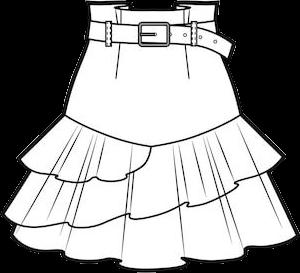Hemline: (2, 154, 285, 227), (10, 232, 297, 270), (19, 147, 153, 182)
Waistline: (63, 112, 241, 148), (85, 0, 217, 10), (87, 18, 216, 26)
